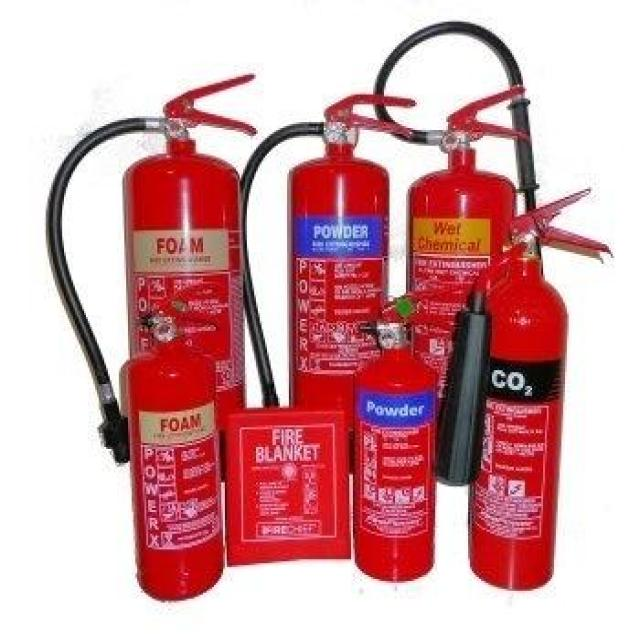fire_extinguisher: (42, 70, 262, 487), (367, 13, 551, 491), (423, 181, 617, 595), (219, 88, 419, 480), (110, 276, 226, 606), (343, 278, 462, 585)
